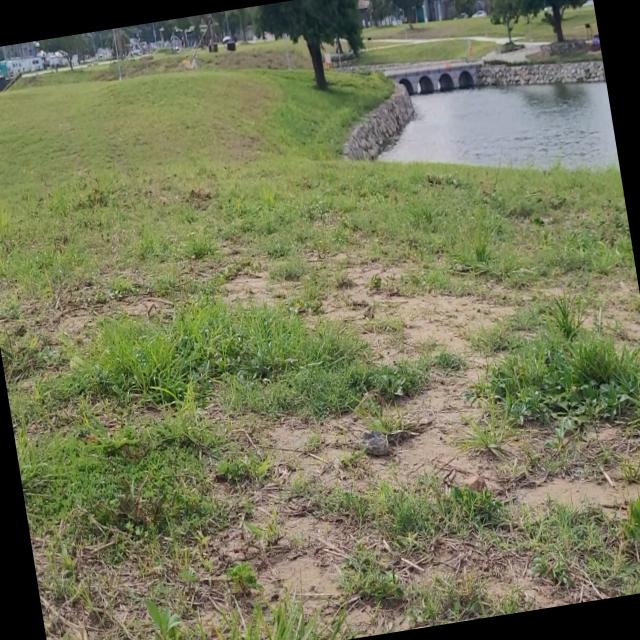grass: (0, 69, 640, 640)
